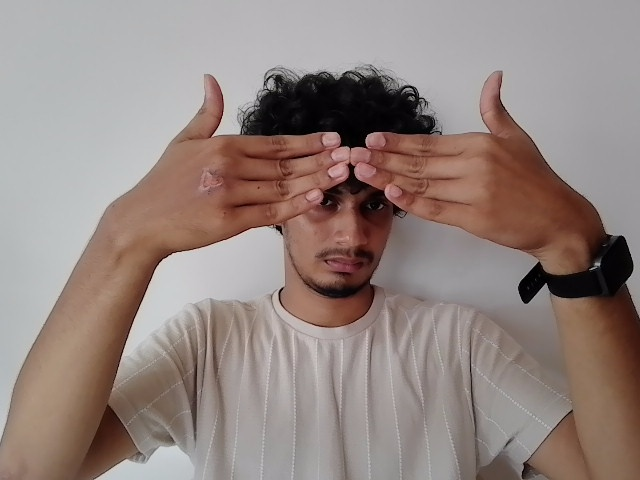family: (106, 68, 593, 250)
